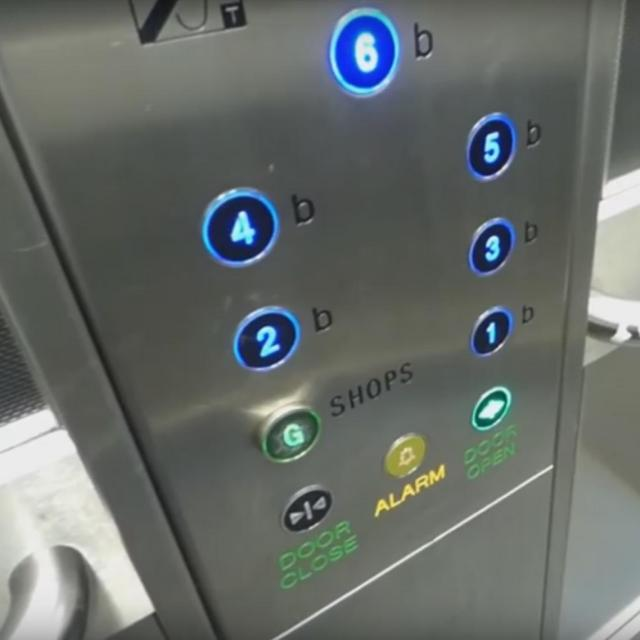1: (467, 302, 514, 359)
2: (230, 304, 301, 372)
3: (465, 215, 519, 279)
4: (198, 182, 282, 272)
5: (462, 110, 518, 184)
6: (326, 3, 404, 103)
G: (258, 401, 322, 466)
alarm: (379, 428, 434, 480)
close: (279, 481, 333, 533)
open: (471, 384, 510, 431)
